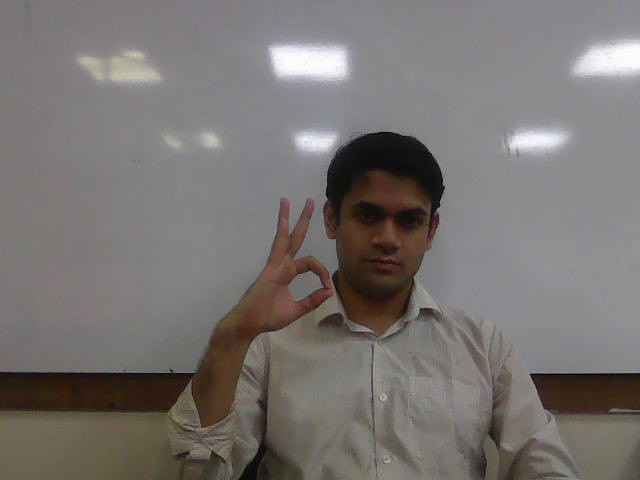Shundor: (243, 196, 335, 342)
